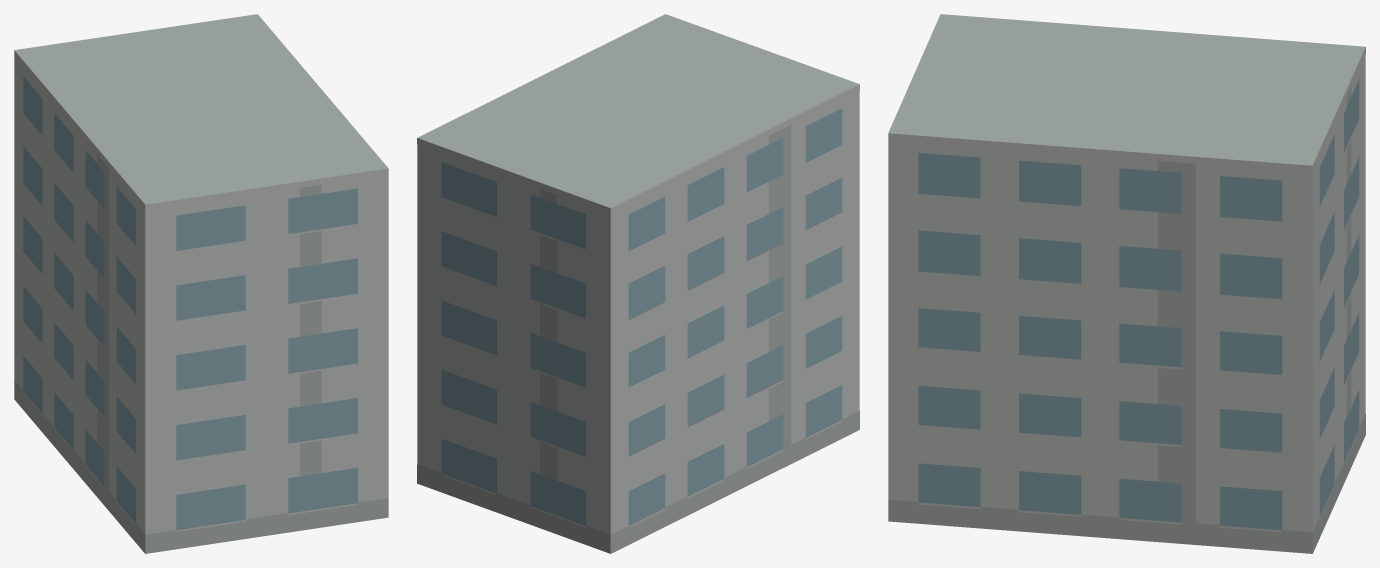
File: survey-upis-32883455.glb
3 views of the same model, side by side, from view 1: azimuth 30°, elevation 25°; view 2: azimuth 150°, elevation 25°; view 3: azimuth 270°, elevation 25° (orthographic). The views are drawn at different scales.
Parts seen in each view (by area): view 1: survey-upis-32883455.tmp; view 2: survey-upis-32883455.tmp; view 3: survey-upis-32883455.tmp.
Boxes of the visible parts, x1,y1,x2,y2 form: survey-upis-32883455.tmp: (14, 14, 388, 553); survey-upis-32883455.tmp: (417, 14, 859, 553); survey-upis-32883455.tmp: (888, 14, 1365, 553).
Size of the model in its own units: 11.16 by 13.3 by 14.84.
